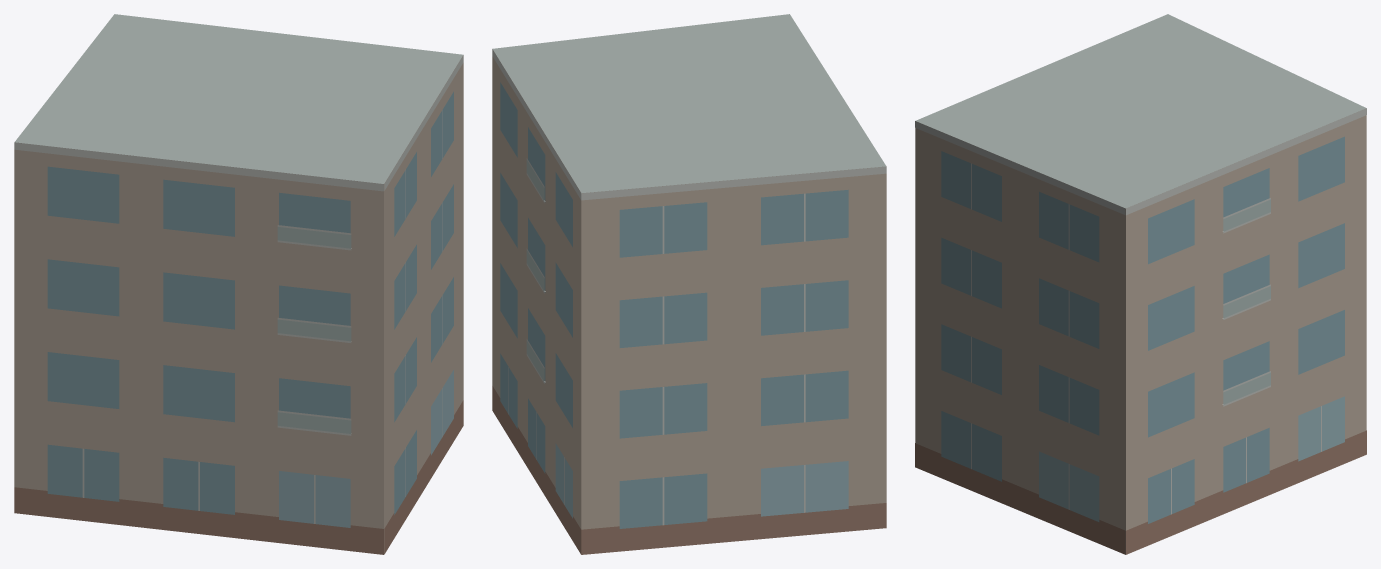
File: survey-upis-32902121.glb
3 renders of one model, left to right at view 1: azimuth 30°, elevation 25°; view 2: azimuth 150°, elevation 25°; view 3: azimuth 270°, elevation 25°, orthographic. The views are drawn at different scales.
Parts seen in each view (by area): view 1: survey-upis-32902121.tmp; view 2: survey-upis-32902121.tmp; view 3: survey-upis-32902121.tmp.
Boxes of the visible parts, x1,y1,x2,y2 form: survey-upis-32902121.tmp: (14, 14, 463, 554); survey-upis-32902121.tmp: (492, 14, 886, 554); survey-upis-32902121.tmp: (915, 14, 1366, 554).
Size of the model in its own units: 14.7 by 12.2 by 14.42.
